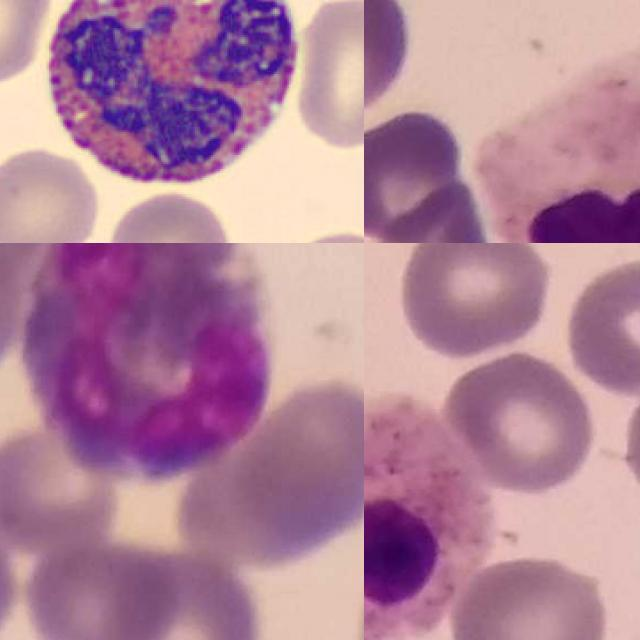Eosinophil: (20, 243, 276, 487), (31, 0, 312, 197)
Neutrophil: (480, 36, 640, 243), (364, 392, 492, 640)
RBC: (289, 0, 364, 151), (0, 144, 102, 243), (102, 186, 235, 243), (0, 0, 52, 86)
